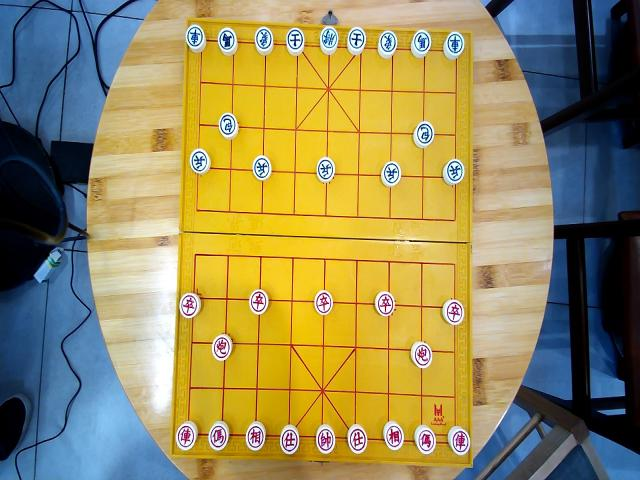piece: (414, 423, 436, 455), (448, 425, 470, 456), (208, 420, 230, 451), (176, 419, 198, 450), (442, 30, 464, 60), (382, 420, 403, 451), (346, 423, 367, 454), (410, 340, 432, 369), (442, 157, 464, 186), (245, 422, 266, 452), (186, 23, 206, 54), (279, 423, 299, 454), (315, 423, 335, 454), (178, 291, 200, 319), (254, 25, 274, 55), (346, 25, 366, 55), (410, 28, 430, 58), (377, 29, 397, 59), (318, 26, 338, 56), (442, 298, 464, 325), (413, 120, 434, 148), (218, 26, 238, 55), (218, 111, 238, 140), (285, 26, 305, 55), (211, 334, 232, 361), (190, 147, 210, 175), (315, 155, 335, 183), (251, 153, 271, 181), (374, 290, 394, 317), (381, 160, 401, 187), (248, 289, 268, 315), (314, 289, 333, 316)
